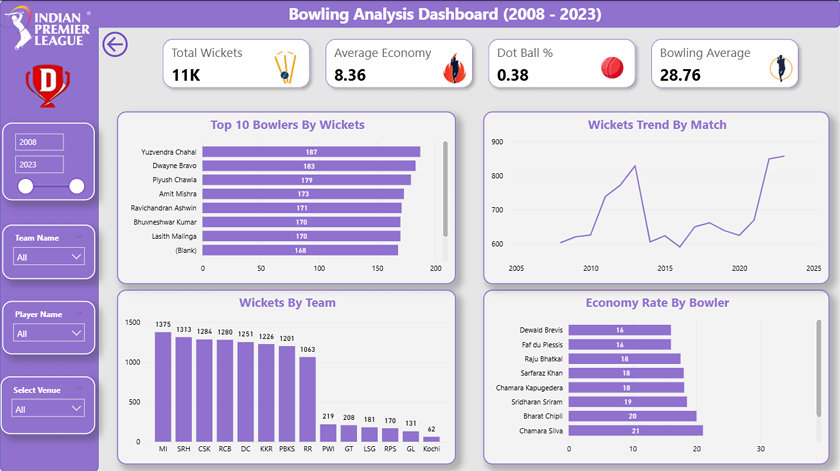

The page's visual inventory and layout, read from the dashboard file:
{"tool":"powerbi","page":{"name":"Bowling_Analysis","canvas":[1280,720],"ordinal":2},"visuals":[{"type":"group","id":"g1","title":"Group 2","box":[230.9,43.2,1004.9,108.6],"z":0},{"type":"cardVisual","fields":{"Data":["Fact_Bowling.Total Wickets","Fact_Bowling.Average Economy","Fact_Bowling.Dot Ball %","Fact_Bowling.Bowling Average"]},"box":[230.9,43.2,1004.9,108.6],"z":1000,"group":"g1"},{"type":"clusteredBarChart","title":"Top 10 Bowlers By Wickets","fields":{"Category":["Dim_Player.Player_Name"],"Y":["Sum(Fact_Bowling.wickets)"]},"box":[178.5,170,516,262.9],"z":1000},{"type":"shape","title":"Dream 11","box":[0,0,1280.3,42.8],"z":2000,"group":"g2"},{"type":"image","box":[909.4,77.4,45.7,53.1],"z":2000,"group":"g4"},{"type":"slicer","fields":{"Values":["Dim_Batting_Team.Team_Name"]},"box":[3.6,342,141.8,83.2],"z":2000,"group":"g3"},{"type":"clusteredColumnChart","title":"Wickets By Team","fields":{"Category":["Dim_Bowling_Team.Team_Name"],"Y":["Sum(Fact_Bowling.wickets)"]},"box":[179,442,516,266.7],"z":2000},{"type":"image","box":[382.2,61.4,103.7,85.2],"z":3000,"group":"g4"},{"type":"clusteredBarChart","title":"Economy Rate By Bowler","fields":{"Category":["Dim_Player.Player_Name"],"Y":["Fact_Bowling.Average Economy"]},"box":[735.8,442,527.2,266.7],"z":3000},{"type":"image","box":[1157.5,77.4,63,55.6],"z":4000,"group":"g4"},{"type":"lineChart","title":"Wickets Trend By Match","fields":{"Y":["Sum(Fact_Bowling.wickets)"],"Category":["Dim_Match.Match Hierarchy.season"]},"box":[736.1,170,527,262.9],"z":4000},{"type":"slicer","fields":{"Values":["Dim_Match.venue"]},"box":[1.2,573.1,144.3,88],"z":4000,"group":"g3"},{"type":"image","box":[653.8,70,76.5,69.1],"z":4500,"group":"g4"},{"type":"shape","title":"Dream 11","box":[0,0,150.6,719.8],"z":5000},{"type":"group","id":"g2","title":"Group 1","box":[0,0,1280.3,42.8],"z":6000},{"type":"slicer","fields":{"Values":["Dim_Player.Player_Name"]},"box":[3.6,458.2,141.8,81.9],"z":6000,"group":"g3"},{"type":"image","box":[0,0,143.8,85],"z":7000},{"type":"image","box":[25.7,92.9,94.2,75.8],"z":8000},{"type":"actionButton","box":[150.4,42.8,52.6,50.1],"z":9000},{"type":"textbox","box":[420.7,0,514.8,42.8],"z":10000},{"type":"group","id":"g3","title":"Group 5","box":[1.2,342,144.4,318.5],"z":11000},{"type":"slicer","fields":{"Values":["Dim_Match.season"]},"box":[3.7,187.7,140.7,118.5],"z":12000},{"type":"group","id":"g4","title":"Group 3","box":[382.2,61.4,838.3,85.2],"z":12001,"group":"g1"}]}

Visuals, with their boxes in screenshot pixels (x1, y1, x2, y2), scaled from the page's 1280x720 canvas onto the 840x471 screenshot:
"Group 2" group: BBox(152, 28, 811, 99)
cardVisual - Fact_Bowling.Total Wickets x Fact_Bowling.Average Economy: BBox(152, 28, 811, 99)
"Top 10 Bowlers By Wickets" clusteredBarChart: BBox(117, 111, 456, 283)
"Dream 11" shape: BBox(0, 0, 839, 28)
image: BBox(597, 51, 627, 85)
slicer - Dim_Batting_Team.Team_Name: BBox(2, 224, 95, 278)
"Wickets By Team" clusteredColumnChart: BBox(117, 289, 456, 464)
image: BBox(251, 40, 319, 96)
"Economy Rate By Bowler" clusteredBarChart: BBox(483, 289, 829, 464)
image: BBox(760, 51, 801, 87)
"Wickets Trend By Match" lineChart: BBox(483, 111, 829, 283)
slicer - Dim_Match.venue: BBox(1, 375, 95, 432)
image: BBox(429, 46, 479, 91)
"Dream 11" shape: BBox(0, 0, 99, 470)
"Group 1" group: BBox(0, 0, 839, 28)
slicer - Dim_Player.Player_Name: BBox(2, 300, 95, 353)
image: BBox(0, 0, 94, 56)
image: BBox(17, 61, 79, 110)
actionButton: BBox(99, 28, 133, 61)
textbox: BBox(276, 0, 614, 28)
"Group 5" group: BBox(1, 224, 96, 432)
slicer - Dim_Match.season: BBox(2, 123, 95, 200)
"Group 3" group: BBox(251, 40, 801, 96)
